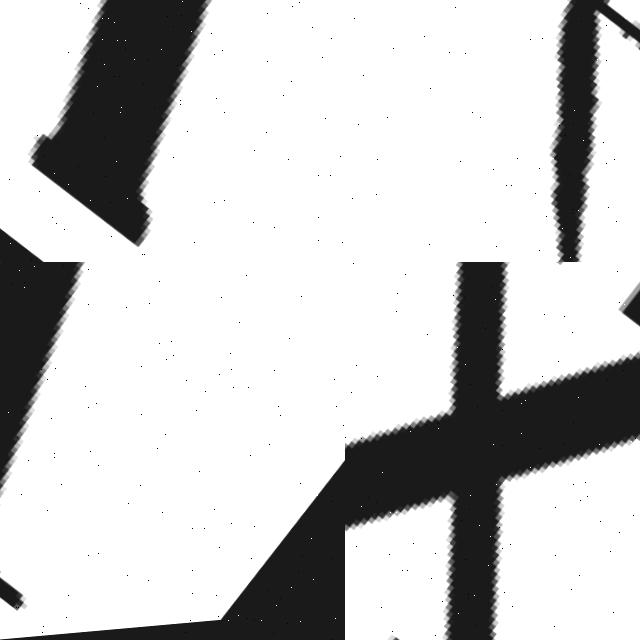F: (540, 0, 640, 262)
L: (0, 262, 345, 630), (0, 0, 345, 262)
X: (345, 262, 640, 640)
